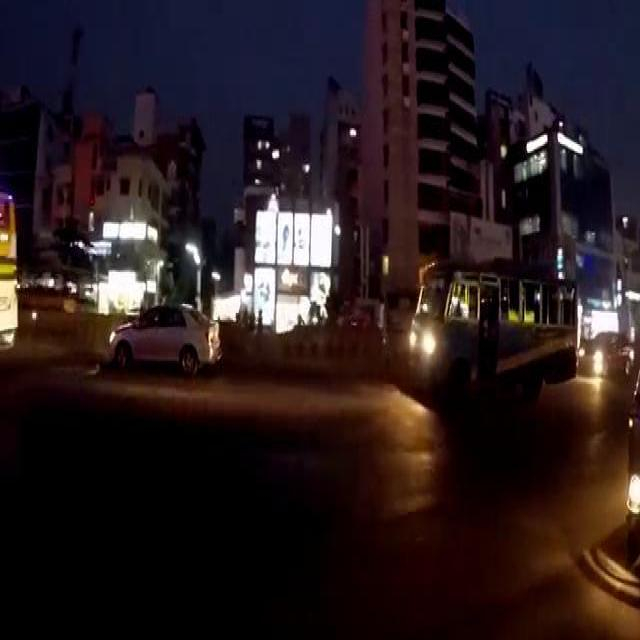bus: (406, 260, 576, 394), (1, 193, 19, 351)
car: (107, 299, 221, 369), (576, 328, 634, 372)
